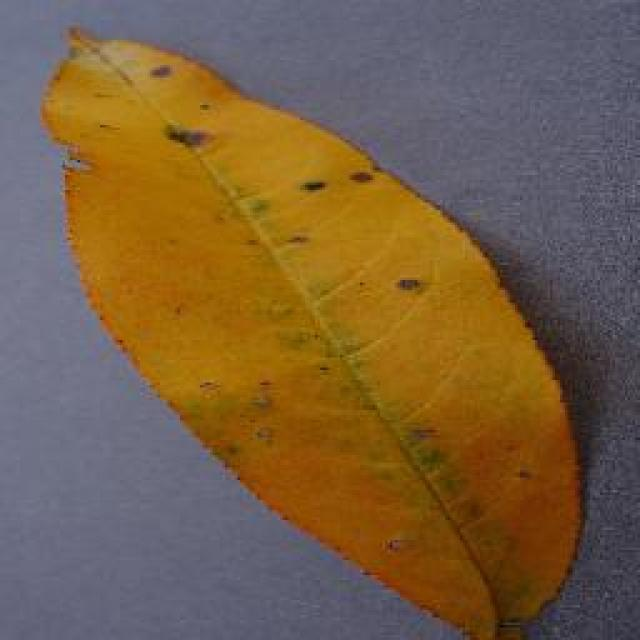Bacterial_spot: (38, 18, 575, 640)
